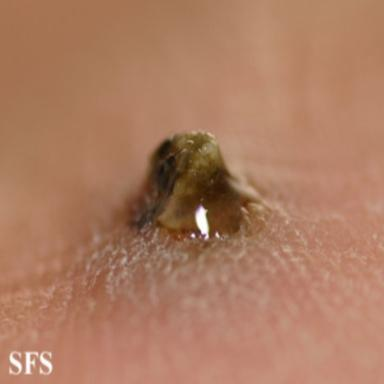Tungiasis: (124, 133, 262, 245)
